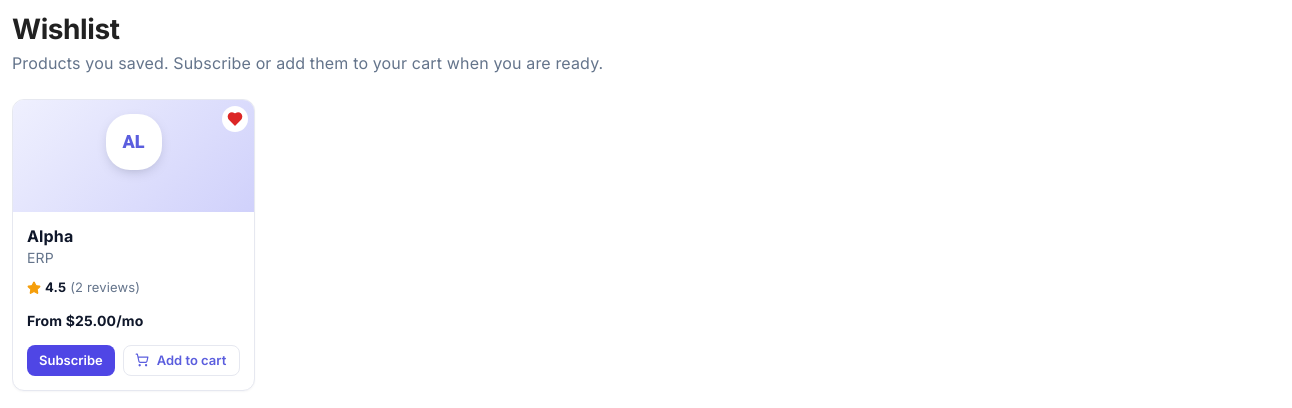
Test case: WishlistPage › removes a product with the heart and shows the empty state with Browse products
This screenshot has width=1292, height=408.
Click the button named "Remove Alpha from wishlist" at (235, 119), box [222,106,248,132]
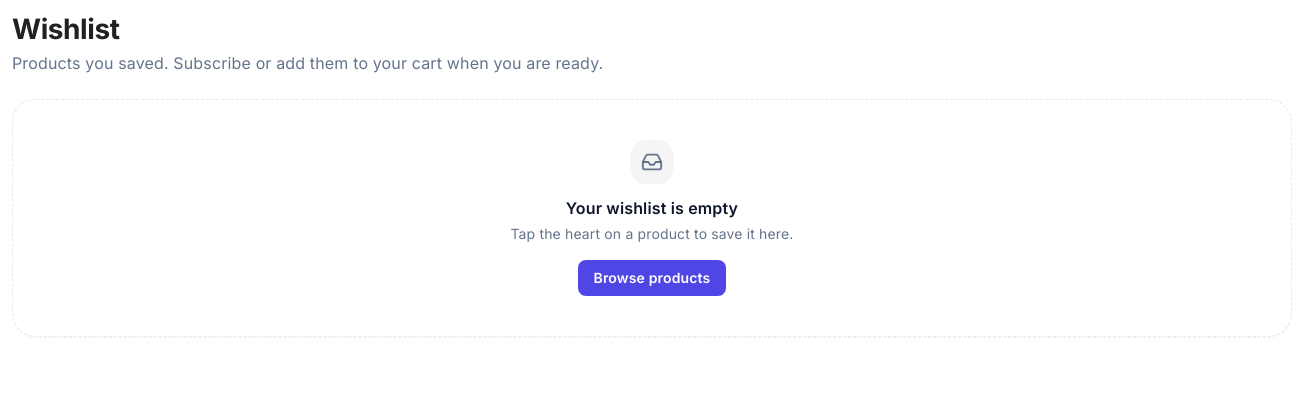
Now the text "Your wishlist is empty" is shown, box [566,198,738,218]
